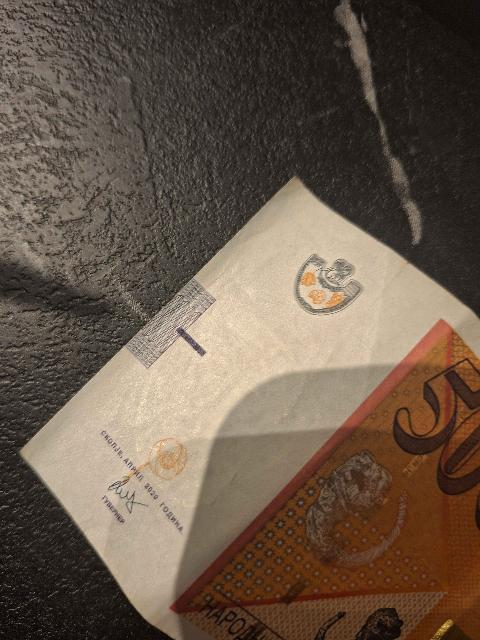500_note: (23, 178, 479, 639)
